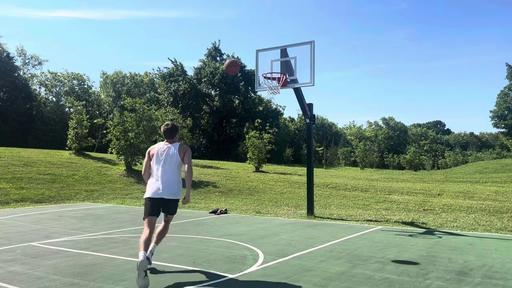ball: (225, 60, 239, 75)
human: (138, 122, 194, 288)
rim: (262, 72, 288, 93)
